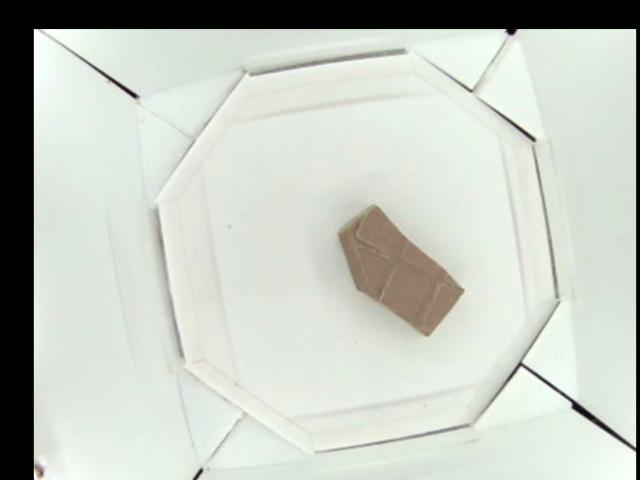China: (338, 206, 465, 338)
